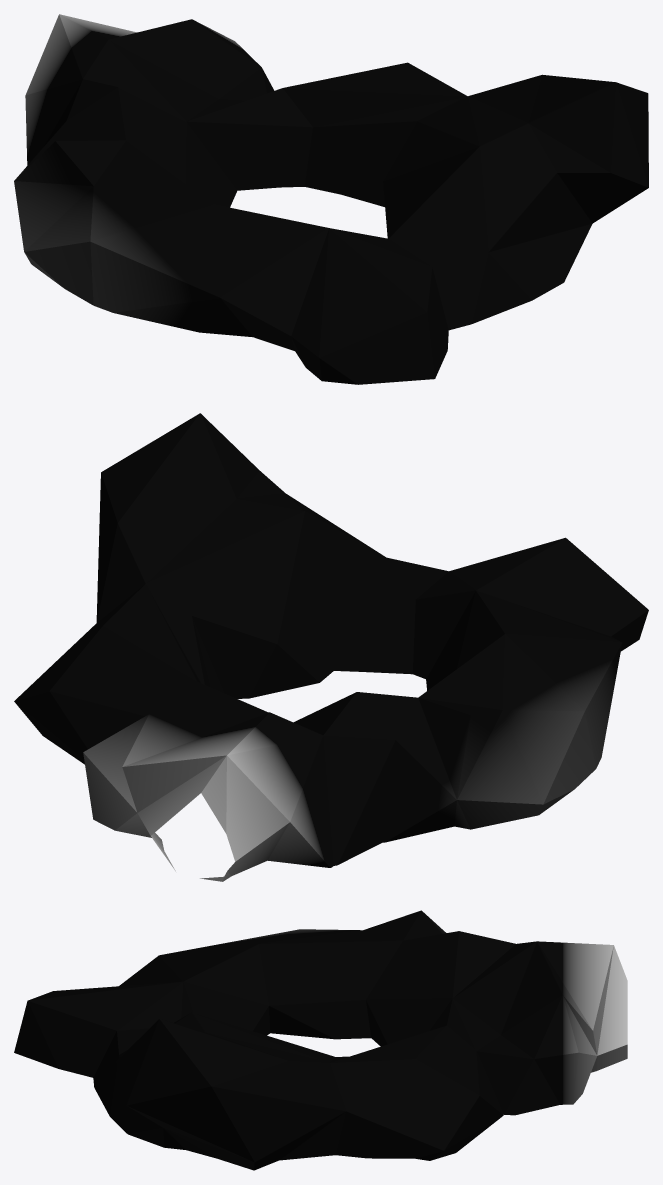
The model's file is Plant00.fbx.
3 views of the same model, one above another, from view 1: azimuth 30°, elevation 25°; view 2: azimuth 150°, elevation 25°; view 3: azimuth 270°, elevation 25° (orthographic). The views are drawn at different scales.
Visible parts, largest first — view 1: Plant00; view 2: Plant00; view 3: Plant00.
Boxes of the visible parts, x1,y1,x2,y2 form: Plant00: (14,14,648,384); Plant00: (14,413,648,881); Plant00: (14,910,627,1170).
Size of the model in its own units: 35.58 by 11.1 by 44.07.
